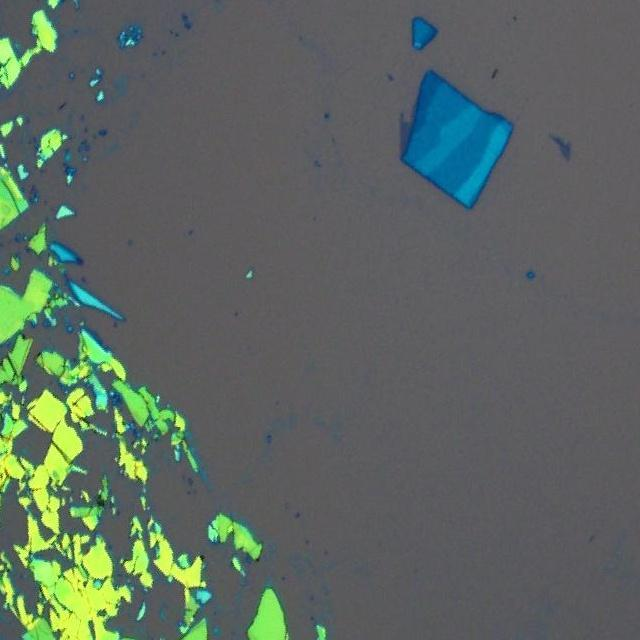monolayer-eWW4: (399, 117, 412, 154), (560, 146, 570, 162)
